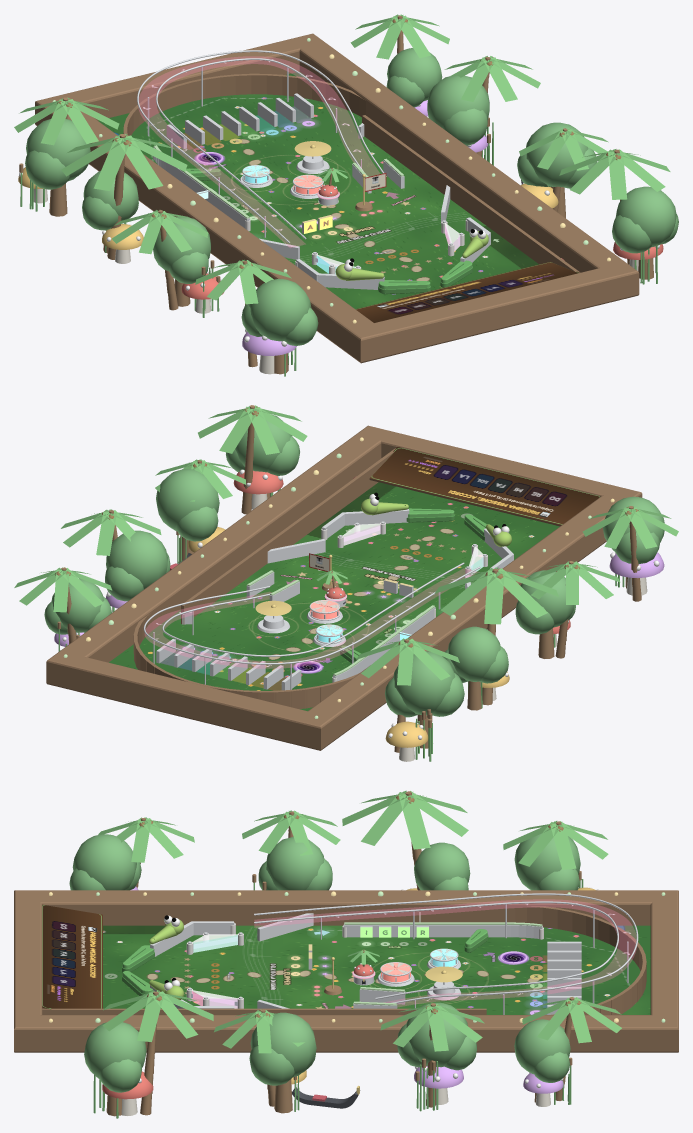
Rendered from table_it.glb.
The picture shows the model from 3 angles, top to bottom: view 1: azimuth 30°, elevation 25°; view 2: azimuth 150°, elevation 25°; view 3: azimuth 270°, elevation 25°; orthographic projection. The views are drawn at different scales.
Visible parts, largest first — view 1: table, pf, scen_home, rampStrip, scen_shroom, apron, scen_carib, scen_lake, object 191, object 185, flip0, object 201 (+8 smaller); view 2: table, pf, scen_home, apron, scen_shroom, rampStrip, scen_carib, scen_lake, object 189, object 190, object 188, object 199 (+6 smaller); view 3: table, pf, scen_home, apron, rampStrip, scen_shroom, scen_lake, scen_carib, object 187, object 186, object 203, object 194 (+13 smaller).
Boxes of the visible parts, x1,y1,x2,y2 form: table: (35, 33, 639, 363); pf: (98, 71, 538, 309); scen_home: (25, 48, 678, 374); rampStrip: (138, 56, 379, 247); scen_shroom: (18, 100, 663, 374); apron: (356, 262, 579, 322); scen_carib: (57, 15, 629, 367); scen_lake: (19, 117, 657, 376); object 191: (93, 136, 131, 190); object 185: (116, 135, 163, 189); flip0: (378, 280, 430, 294); object 201: (608, 151, 627, 199); table: (46, 425, 642, 750); pf: (109, 482, 559, 711); scen_home: (44, 414, 664, 748); apron: (369, 447, 600, 526); scen_shroom: (54, 469, 664, 761); rampStrip: (145, 568, 478, 668); scen_carib: (55, 405, 641, 752); scen_lake: (57, 488, 625, 761); object 189: (484, 570, 504, 624); object 190: (491, 568, 547, 617); object 188: (441, 568, 500, 615); object 199: (246, 407, 279, 454); table: (14, 890, 678, 1052); pf: (103, 925, 650, 1014); scen_home: (69, 833, 580, 1116); apron: (42, 904, 102, 1009); rampStrip: (254, 899, 636, 1006); scen_shroom: (102, 886, 599, 1115); scen_lake: (93, 871, 583, 1118); scen_carib: (136, 791, 581, 1115); object 187: (398, 793, 430, 849); object 186: (361, 792, 413, 845); object 203: (137, 992, 164, 1041); object 194: (550, 823, 576, 869).
Size of what is drawn, in the model's own units: 21.44 by 5.44 by 24.86.
Materials: 286 (79 with a texture image).
